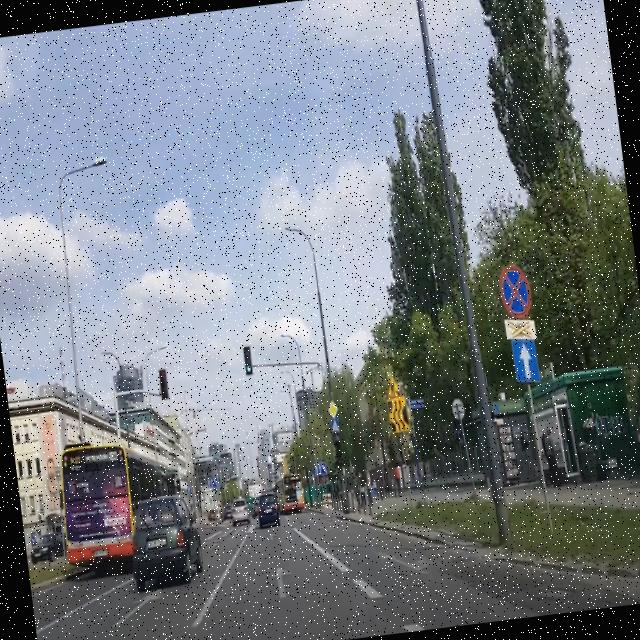Droga z pierwszenstwem: (326, 398, 339, 418)
Przejscie dla pieszych: (328, 416, 341, 434)
Zakaz zatrzymywania sie: (496, 262, 534, 320)
